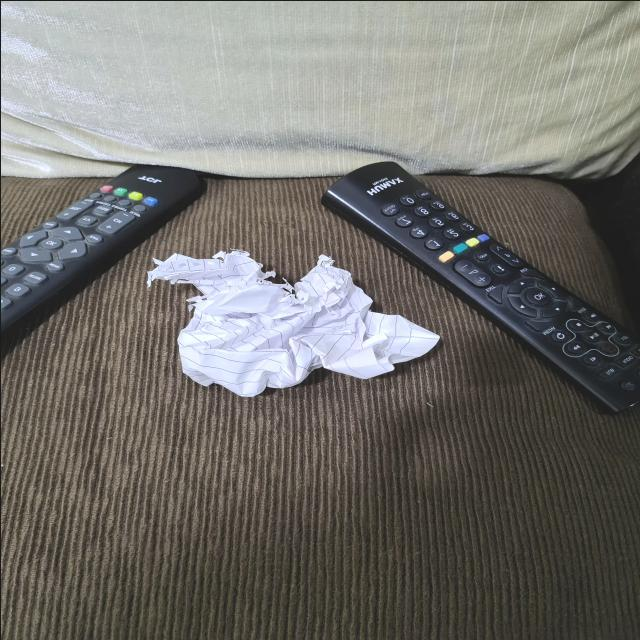Paper: (150, 249, 450, 398)
